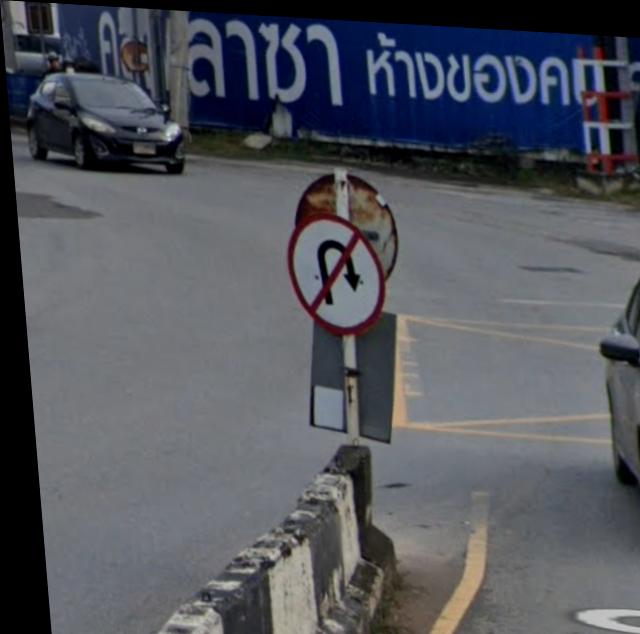not_u_turn_right: (281, 208, 384, 332)
